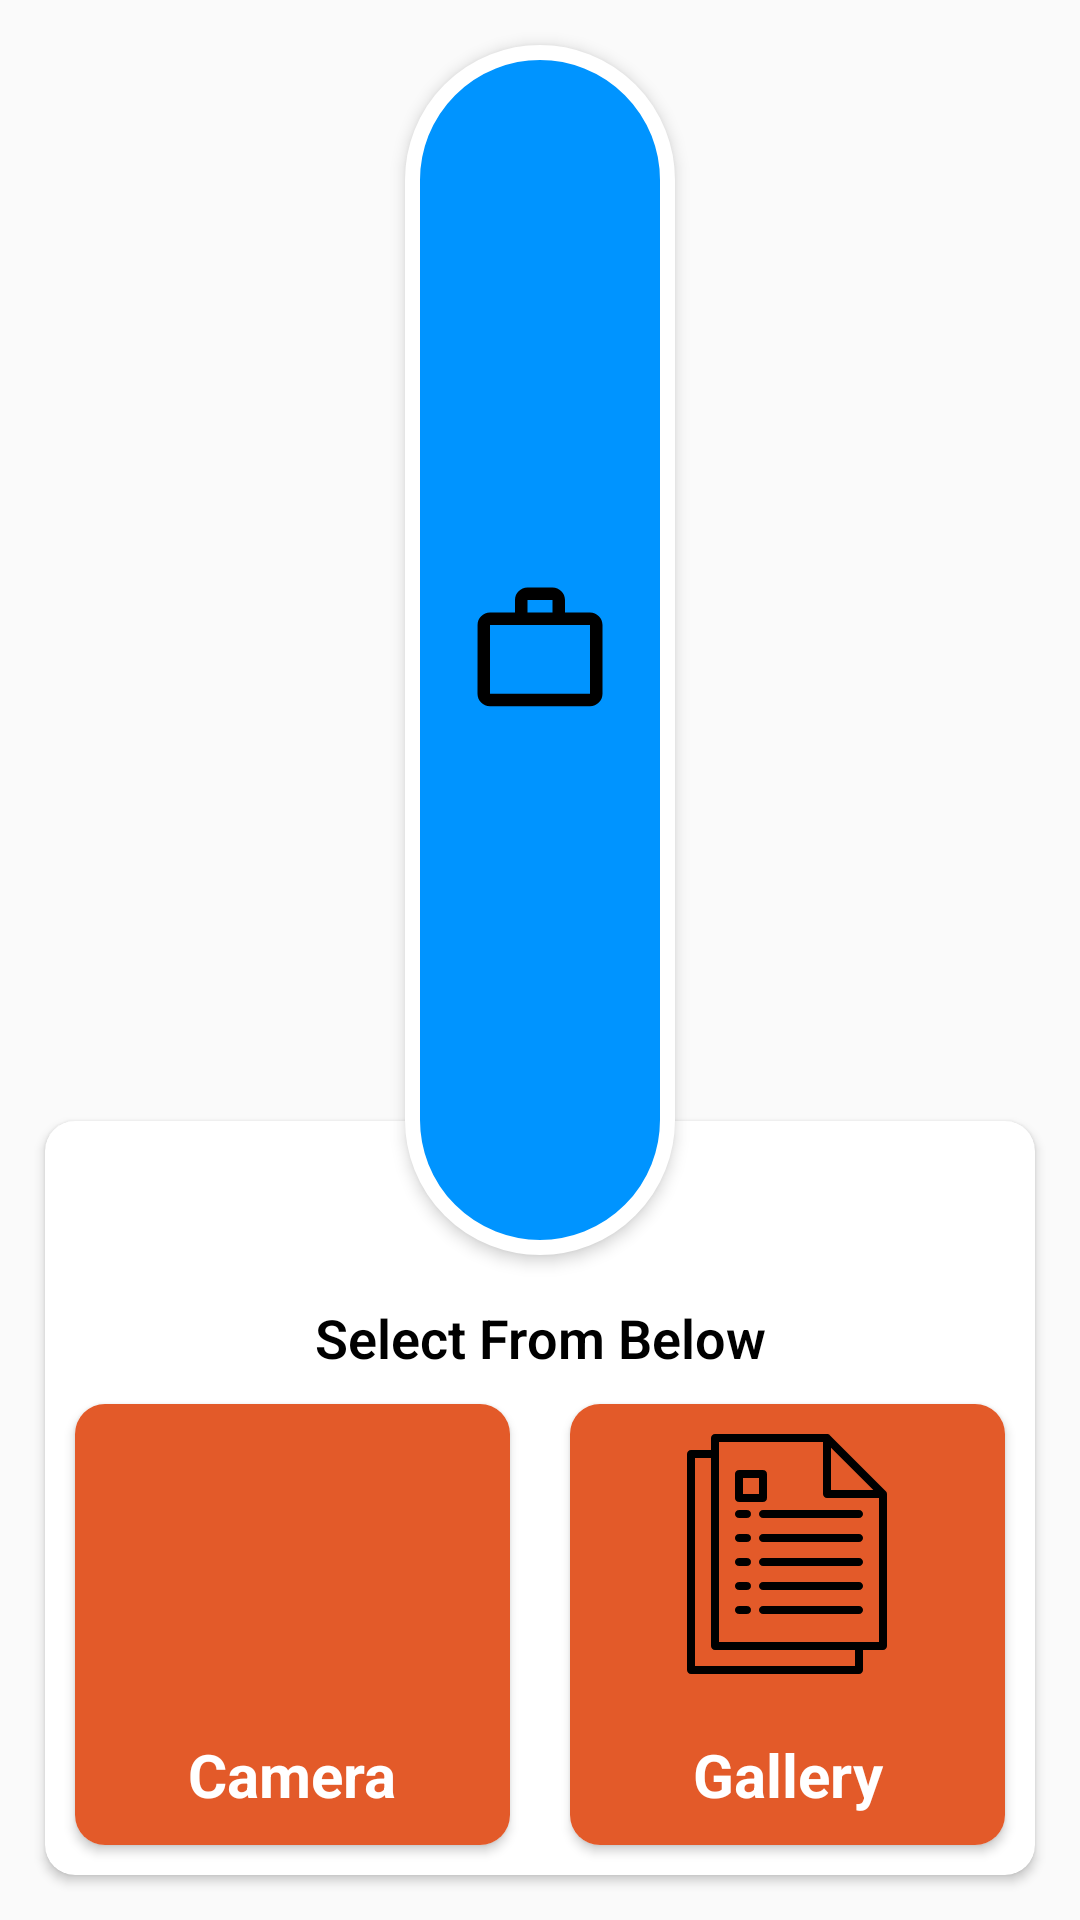

Where to tap for icons on this 1080×1920 app screen, as [x,y]:
document: [787,1554]
